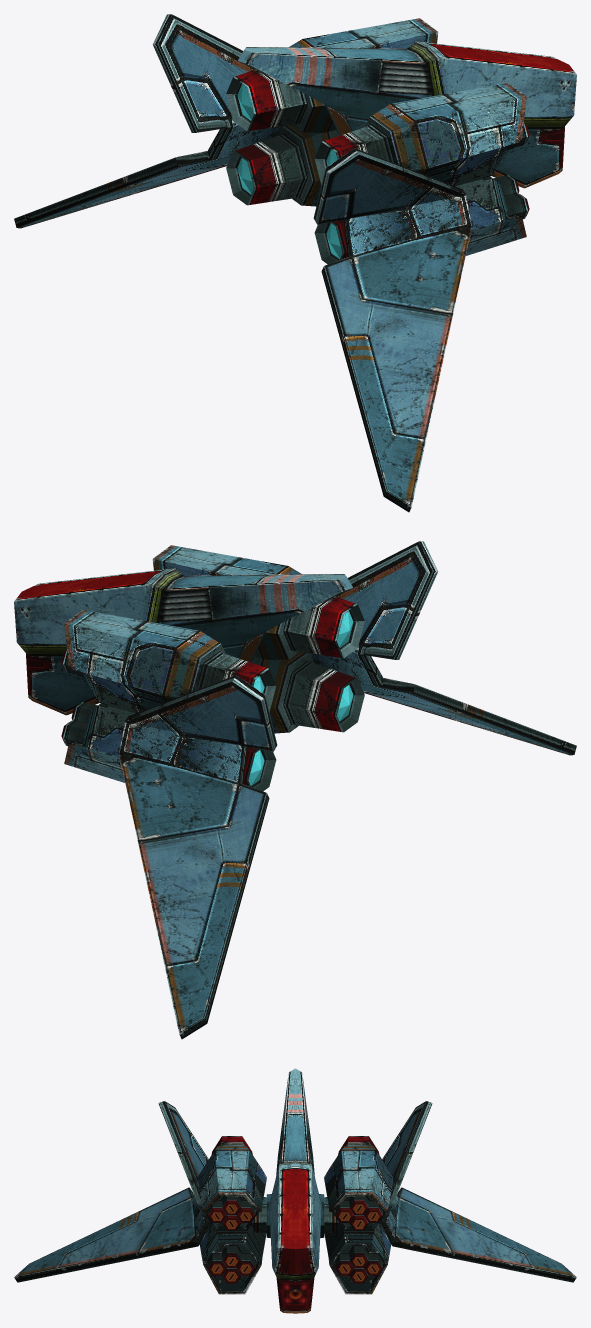
The model's file is drone_M.FBX.
3 views of the same model, one above another, from view 1: azimuth 30°, elevation 25°; view 2: azimuth 150°, elevation 25°; view 3: azimuth 270°, elevation 25° (orthographic). The views are drawn at different scales.
Parts seen in each view (by area): view 1: Body2; view 2: Body2; view 3: Body2.
Part boxes in pixels (x1,y1,x2,y2): Body2: (14,14,576,512); Body2: (14,541,576,1039); Body2: (14,1068,576,1313).
Size of the model in its own units: 170 by 314 by 138.
1 material, 1 textured.
